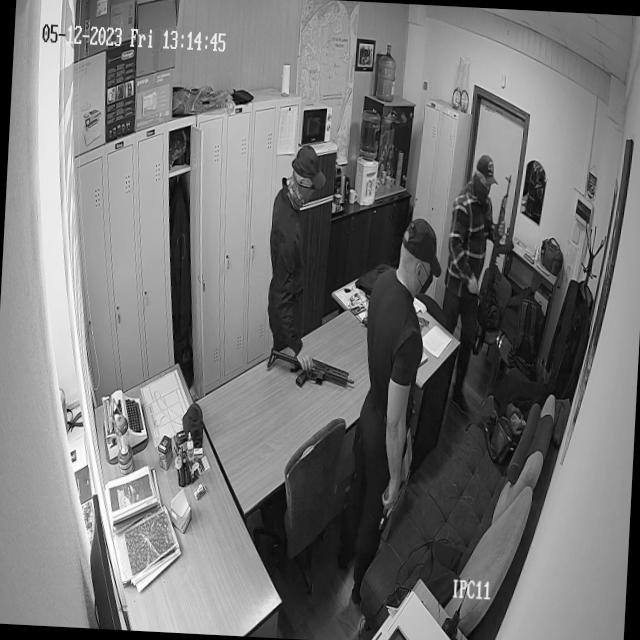gun: (478, 174, 516, 336), (263, 338, 356, 392), (376, 476, 402, 540)
person with a gun: (355, 208, 446, 568), (262, 140, 368, 398), (441, 150, 518, 366)
